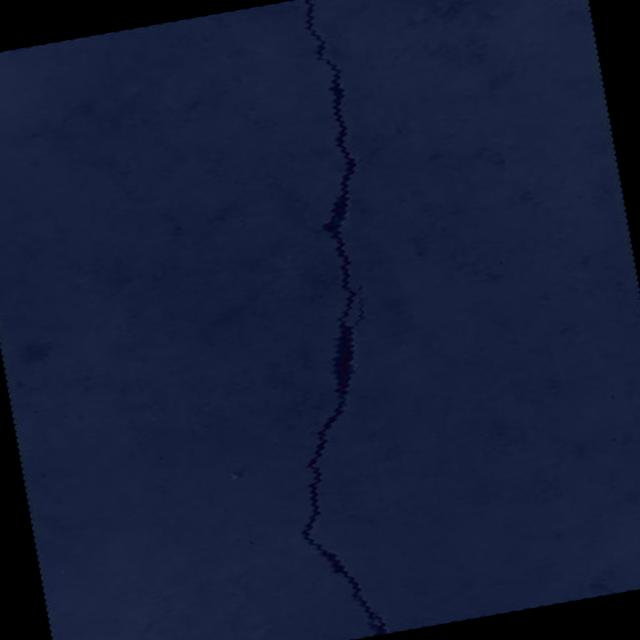crack: (208, 0, 439, 640), (431, 0, 480, 53)
